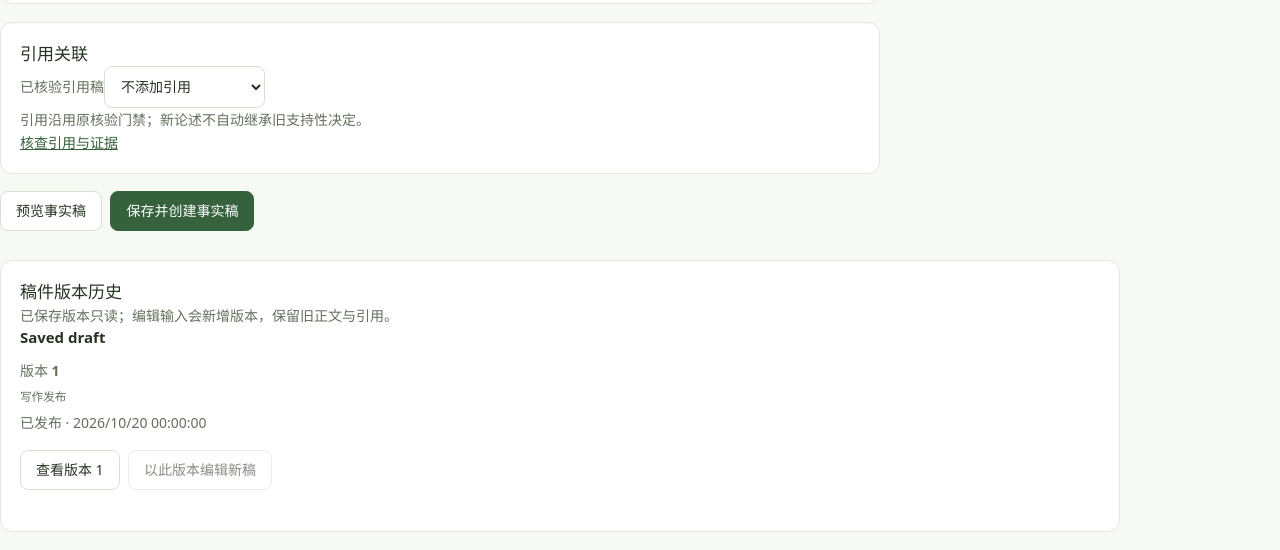
keeps reviewed v2 scientific content out of ordinary edit and review publishing
(page scrolled)
Expected: the button "以此版本编辑新稿" is disabled, [128,450,272,490]
Click the button "查看版本 1" at (70, 470), box [20,450,120,490]
(page scrolled)
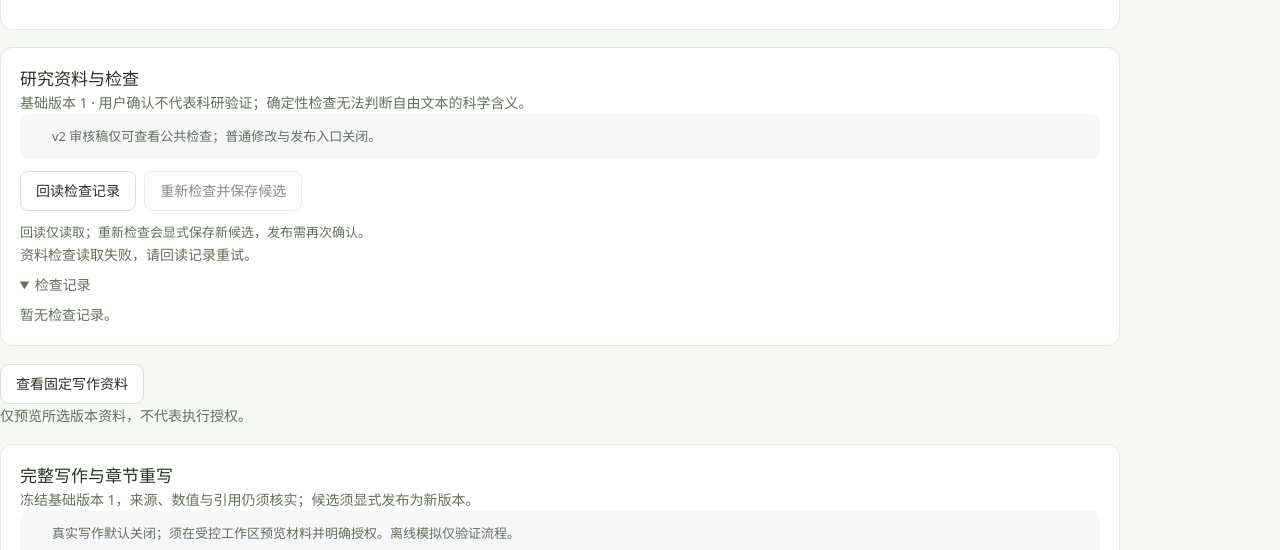
Result: the text "v2 审核稿仅可查看公共检查；普通修改与发布入口关闭。" is shown at [20,114,1100,159]
Result: the button "重新检查并保存候选" is disabled at [144,170,302,210]
